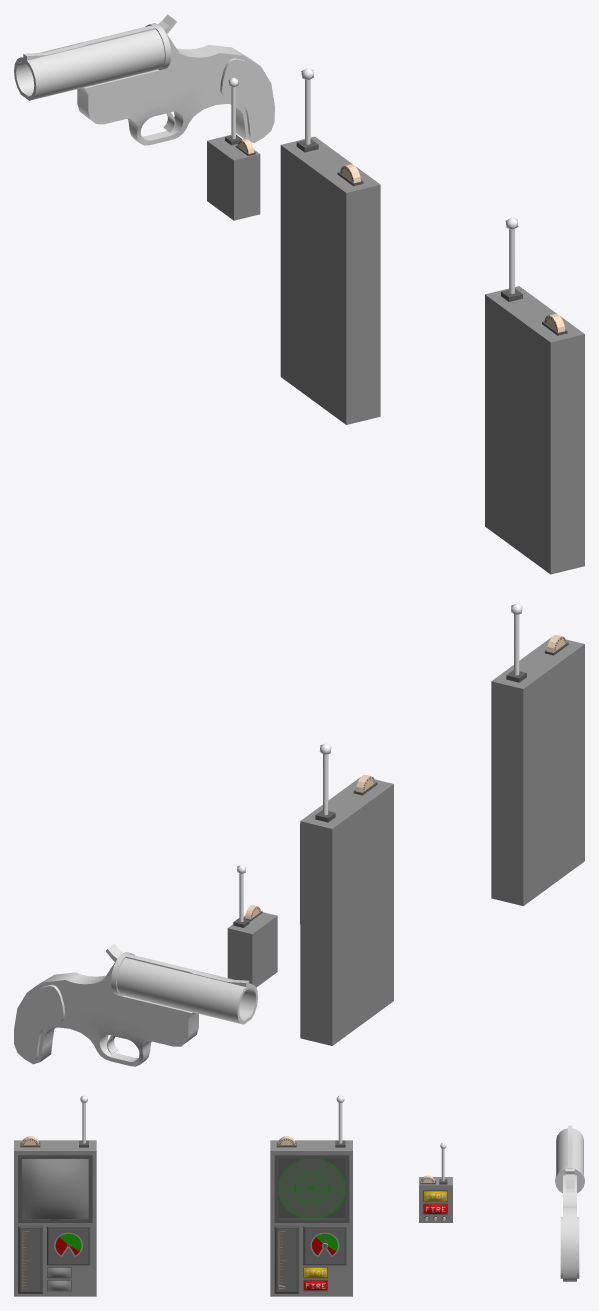
The model's file is SpaceSurvivalKit.fbx.
The picture shows the model from 3 angles, top to bottom: view 1: azimuth 30°, elevation 25°; view 2: azimuth 150°, elevation 25°; view 3: azimuth 270°, elevation 25°; orthographic projection. The views are drawn at different scales.
Parts seen in each view (by area): view 1: Transmiter.001, Transmiter.002, FlareGun, Reciver; view 2: Transmiter.002, Transmiter.001, FlareGun, Reciver; view 3: Transmiter.002, Transmiter.001, FlareGun, Reciver.
Boxes of the visible parts, x1=… form: Transmiter.001: x1=280, y1=68, x2=380, y2=424; Transmiter.002: x1=485, y1=217, x2=584, y2=574; FlareGun: x1=14, y1=23, x2=274, y2=145; Reciver: x1=207, y1=77, x2=260, y2=220; Transmiter.002: x1=491, y1=603, x2=584, y2=906; Transmiter.001: x1=300, y1=743, x2=393, y2=1045; FlareGun: x1=14, y1=952, x2=257, y2=1066; Reciver: x1=227, y1=864, x2=277, y2=987; Transmiter.002: x1=14, y1=1095, x2=96, y2=1296; Transmiter.001: x1=270, y1=1095, x2=352, y2=1296; FlareGun: x1=555, y1=1125, x2=584, y2=1281; Reciver: x1=419, y1=1142, x2=452, y2=1222.
Size of the model in its own units: 22.76 by 27.8 by 73.43.
Materials: 5 (4 with a texture image).
